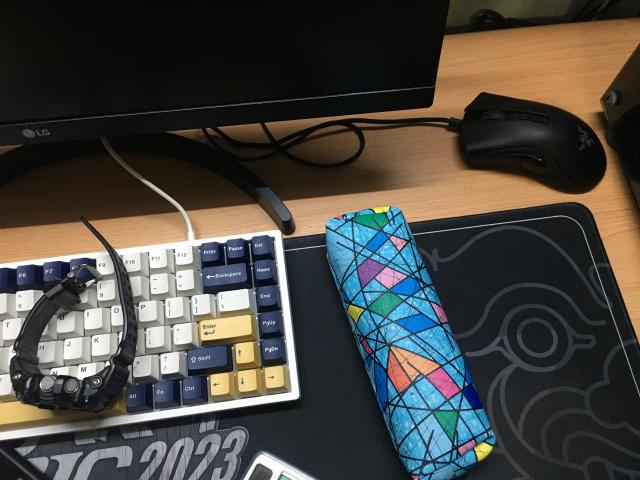Mouse: (460, 92, 606, 192)
Watch: (10, 218, 138, 412)
